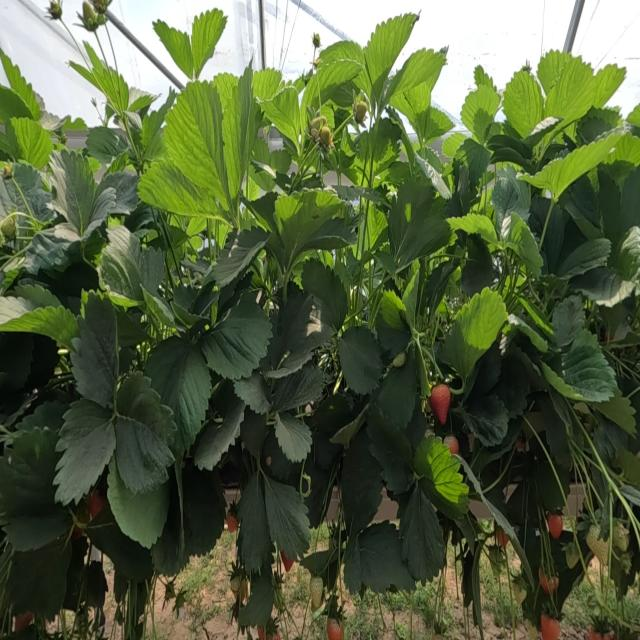Leaves: (0, 430, 72, 552), (166, 81, 229, 211), (145, 337, 211, 458), (460, 459, 529, 569), (268, 193, 354, 281), (114, 372, 176, 493), (436, 287, 508, 389), (524, 134, 620, 201), (199, 292, 272, 380), (56, 399, 116, 501), (261, 293, 332, 378), (388, 175, 449, 271), (6, 530, 71, 617), (71, 42, 143, 120), (107, 459, 169, 549), (86, 499, 153, 581), (139, 158, 227, 220), (70, 294, 118, 407), (0, 281, 79, 349), (0, 162, 57, 252), (0, 332, 59, 412), (341, 427, 383, 539), (412, 434, 469, 516), (300, 60, 362, 132), (365, 401, 413, 494), (400, 484, 444, 583), (182, 458, 226, 557), (223, 69, 257, 197), (358, 520, 415, 593), (50, 150, 97, 235), (194, 391, 245, 469), (152, 469, 189, 575), (562, 331, 617, 401), (264, 476, 310, 559), (304, 430, 342, 528), (206, 228, 269, 287), (363, 14, 416, 84), (309, 395, 357, 470), (368, 359, 417, 430), (301, 258, 348, 331), (384, 49, 445, 105), (238, 471, 272, 571), (545, 53, 595, 121), (352, 120, 399, 187), (338, 326, 382, 394), (319, 41, 372, 97), (0, 48, 40, 120), (261, 88, 306, 151), (188, 8, 227, 79), (503, 71, 544, 138), (492, 167, 530, 238), (271, 361, 324, 411), (541, 204, 578, 274), (489, 355, 530, 418), (98, 244, 143, 301), (461, 395, 509, 446), (24, 228, 77, 274), (153, 20, 195, 78), (570, 267, 632, 306), (239, 559, 274, 628), (376, 292, 411, 358), (11, 118, 53, 169), (263, 430, 301, 486), (461, 79, 500, 132), (468, 342, 502, 402), (447, 213, 499, 252), (461, 235, 493, 296), (142, 92, 176, 149), (274, 412, 312, 463), (593, 389, 636, 434), (542, 401, 571, 467), (0, 334, 33, 390), (512, 220, 543, 277), (424, 261, 456, 316), (564, 176, 599, 226), (488, 135, 536, 171), (16, 399, 69, 431), (552, 295, 584, 348), (306, 217, 355, 250), (86, 126, 128, 164), (411, 107, 453, 144), (104, 171, 139, 215), (537, 49, 571, 94), (613, 225, 640, 281), (592, 64, 626, 108), (234, 373, 270, 414), (108, 226, 140, 272), (460, 140, 490, 189), (508, 314, 547, 351), (344, 537, 369, 594), (418, 156, 451, 199), (87, 187, 119, 230), (516, 297, 552, 335), (240, 409, 267, 459), (0, 84, 32, 124), (620, 166, 640, 229), (139, 246, 164, 296), (52, 219, 104, 242), (116, 309, 149, 345), (246, 193, 277, 231), (606, 132, 640, 166), (143, 289, 174, 326), (214, 72, 238, 117), (252, 68, 284, 100), (578, 113, 611, 143), (402, 271, 419, 328), (366, 204, 387, 249), (38, 98, 65, 132), (125, 207, 153, 239), (528, 196, 550, 236), (336, 249, 361, 284), (171, 300, 202, 328), (333, 185, 380, 203), (442, 132, 472, 158), (248, 164, 276, 191), (252, 131, 273, 166), (173, 285, 197, 311), (268, 149, 292, 175), (374, 251, 396, 274), (185, 217, 207, 238), (169, 225, 188, 248), (281, 461, 299, 485), (250, 274, 266, 293)
Strawberries: (230, 559, 249, 620), (586, 526, 609, 566), (78, 0, 105, 32), (429, 383, 450, 424), (539, 555, 558, 597), (309, 576, 323, 617), (487, 545, 504, 577), (613, 520, 629, 552), (0, 216, 16, 247), (90, 489, 106, 519), (541, 614, 560, 639), (563, 542, 581, 568), (547, 512, 563, 539), (13, 612, 34, 632), (354, 95, 368, 124), (163, 580, 177, 609), (173, 590, 186, 617), (512, 581, 526, 606), (588, 626, 614, 639), (327, 618, 343, 639), (90, 0, 112, 15), (319, 126, 333, 148), (47, 0, 62, 20), (310, 116, 327, 133), (443, 436, 459, 453), (281, 551, 294, 571), (227, 511, 238, 533), (497, 526, 508, 548), (391, 353, 406, 367), (586, 533, 592, 540)
